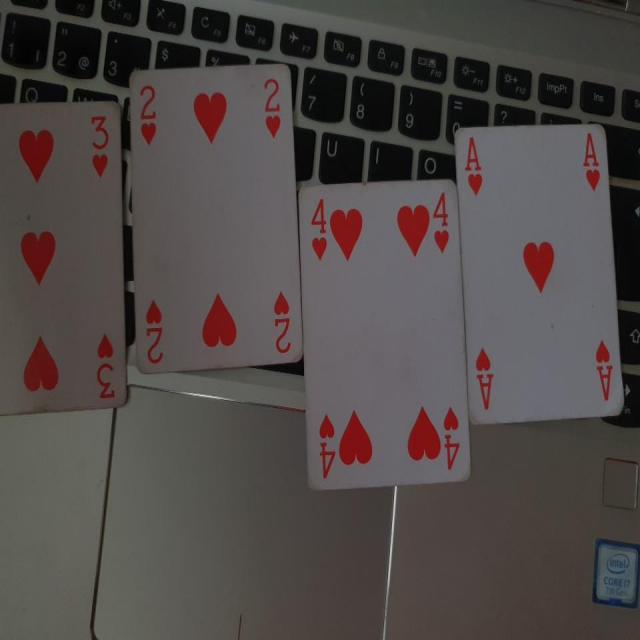2 Hearts: (123, 58, 303, 373)
3 Hearts: (1, 95, 126, 438)
4 Hearts: (300, 171, 476, 496)
A Hearts: (449, 108, 632, 432)
